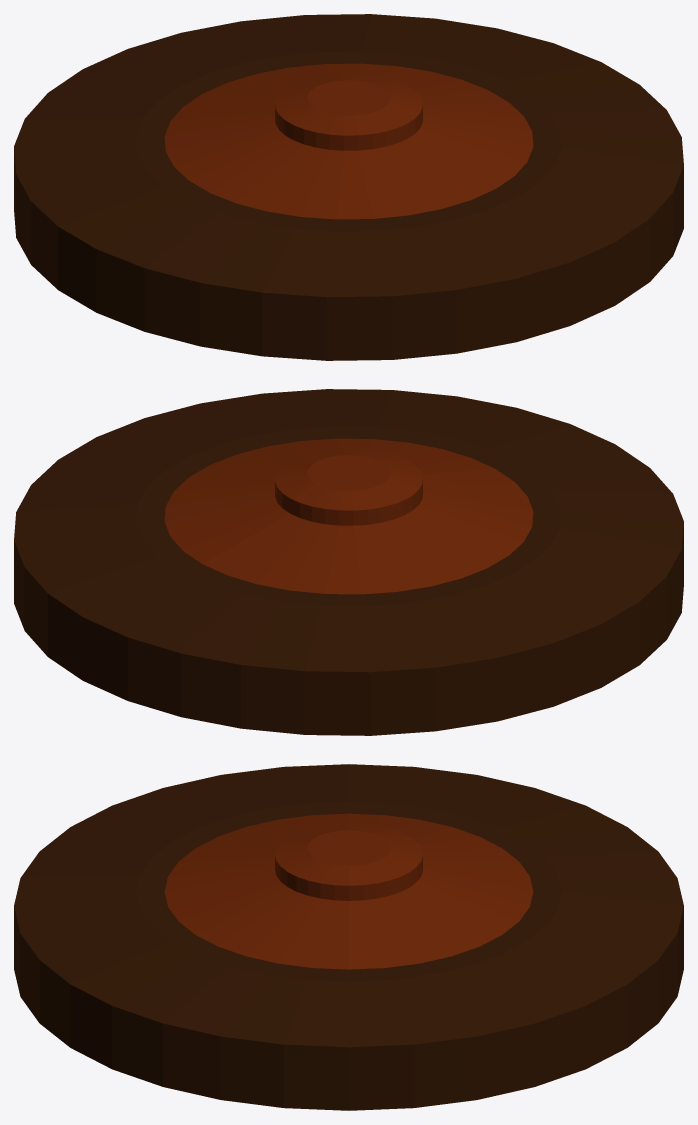
Rendered from mine.fbx.
3 renders of one model, top to bottom at view 1: azimuth 30°, elevation 25°; view 2: azimuth 150°, elevation 25°; view 3: azimuth 270°, elevation 25°, orthographic.
Visible parts, largest first — view 1: Cylinder, Cylinder.001; view 2: Cylinder, Cylinder.001; view 3: Cylinder, Cylinder.001.
Boxes of the visible parts, left/top/right/bottom form: Cylinder: left=14, top=14, right=683, bottom=360; Cylinder.001: left=164, top=63, right=533, bottom=219; Cylinder: left=14, top=389, right=683, bottom=735; Cylinder.001: left=164, top=438, right=533, bottom=594; Cylinder: left=14, top=764, right=683, bottom=1110; Cylinder.001: left=164, top=813, right=533, bottom=969.
Bounding box in the file's own units: 84.01 × 16.76 × 84.01.
